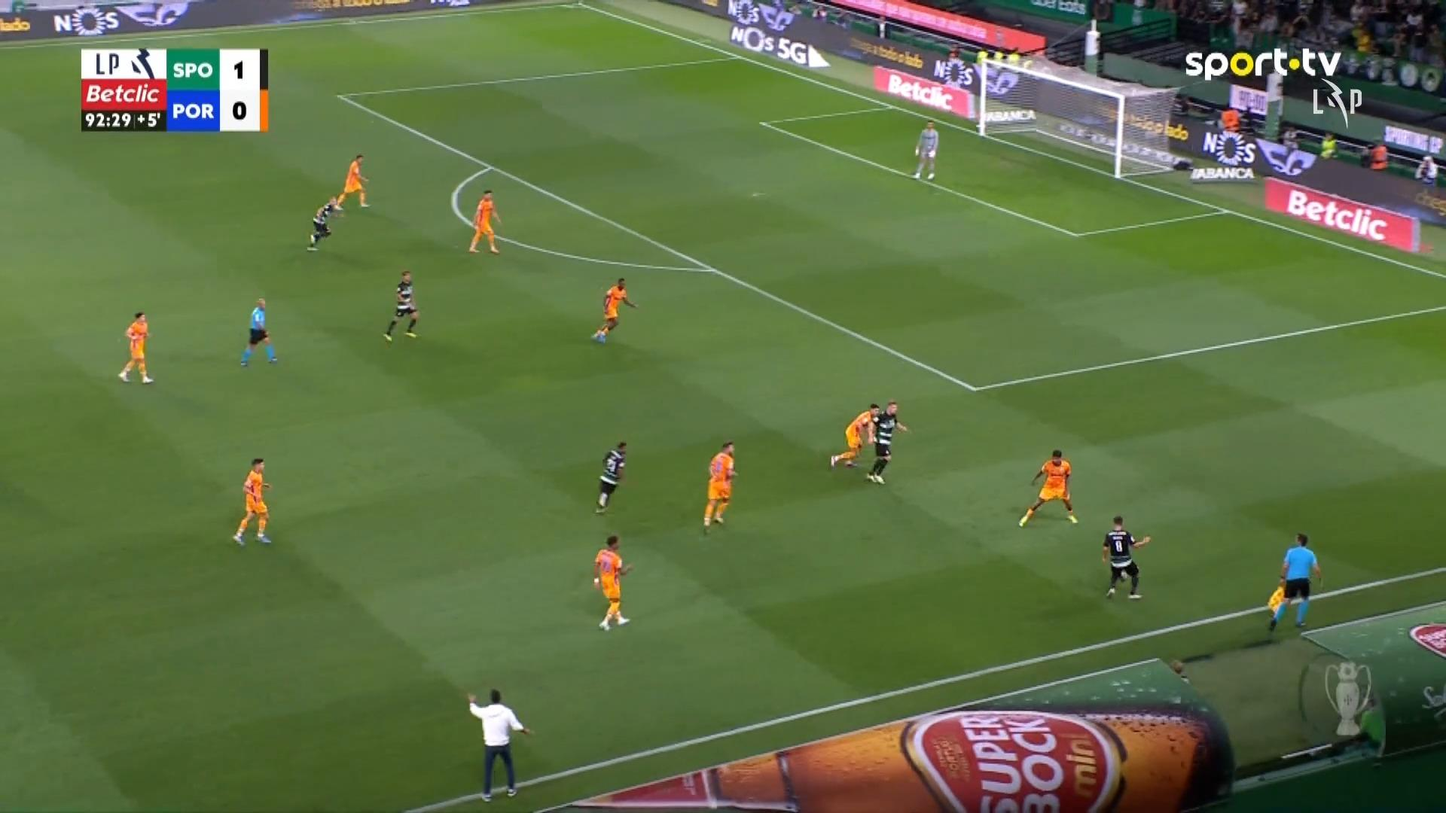goalkeeper: (912, 120, 938, 180)
player: (1017, 449, 1078, 528), (1101, 515, 1151, 599), (592, 534, 633, 631), (865, 400, 908, 484), (232, 457, 272, 545), (828, 403, 880, 470), (702, 441, 737, 535), (590, 276, 637, 343), (117, 311, 154, 384), (383, 269, 419, 343), (593, 440, 627, 514), (468, 189, 502, 254), (333, 153, 371, 210), (306, 195, 342, 251)
referee: (1267, 532, 1322, 632), (239, 297, 278, 367)
